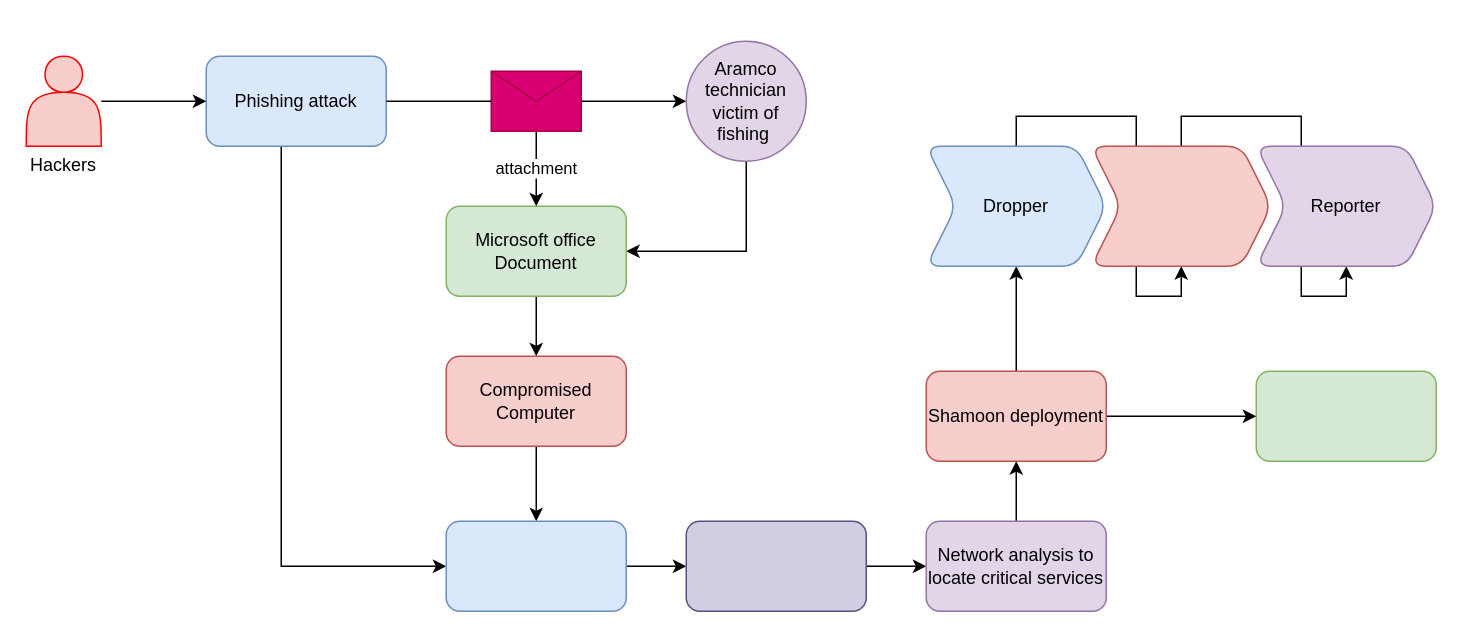
Some shapes in this 1463 by 638 pixel diagram are drawn without their labels. Each missing label, with the centre of its shape:
E-mail: (535,100)
Malware injection to escalate the privileges on the network: (775,565)
malware trigged the payload on Aug. 15 2012 at 11:08am: (1345,415)
remote connection established: (535,565)
Wiper: (1180,205)
